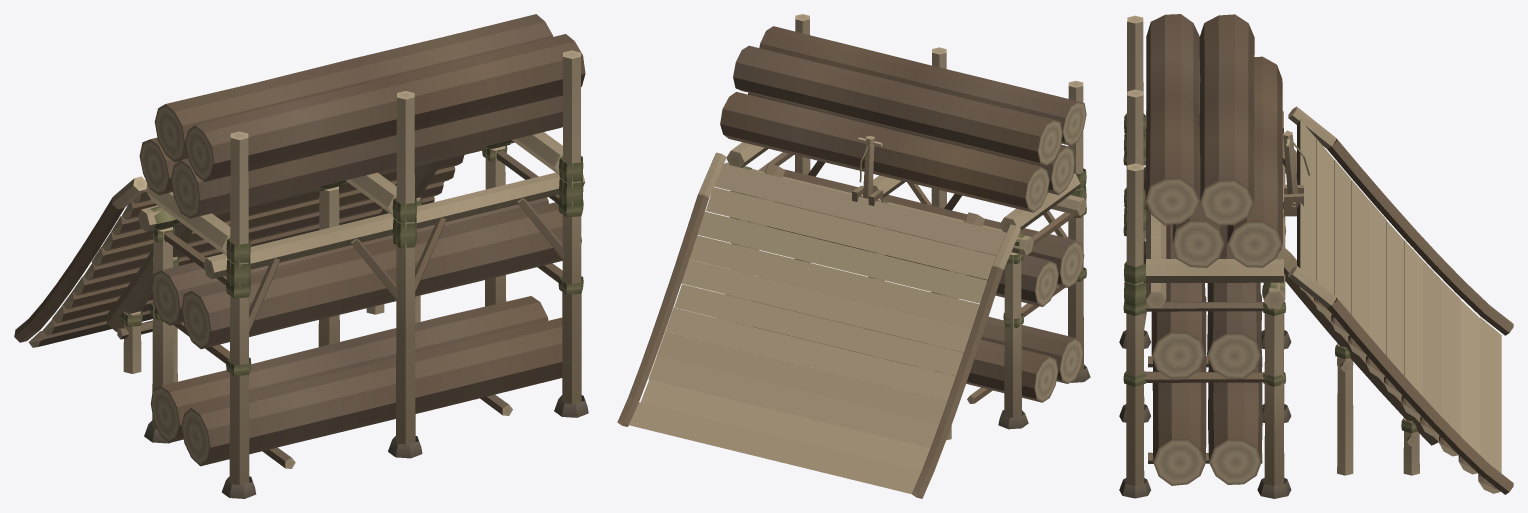
File: log_tower_a.glb
The picture shows the model from 3 angles, left to right: view 1: azimuth 30°, elevation 25°; view 2: azimuth 150°, elevation 25°; view 3: azimuth 270°, elevation 25°; orthographic projection. The views are drawn at different scales.
Parts seen in each view (by area): view 1: Base, Store2, Store3, Log3, Log1, Log2, Log0; view 2: Base, Log0, Log2, Log3, Store2, Store3, Log1, Lever; view 3: Base, Store2, Log2, Log3, Store3, Log0, Log1, Lever.
Boxes of the visible parts, bbox=[...] form: Base: bbox=[14, 50, 588, 498]; Store2: bbox=[150, 296, 562, 468]; Store3: bbox=[149, 197, 583, 376]; Log3: bbox=[185, 34, 585, 181]; Log1: bbox=[171, 95, 562, 218]; Log2: bbox=[154, 14, 553, 162]; Log0: bbox=[139, 137, 178, 195]; Base: bbox=[617, 14, 1090, 498]; Log0: bbox=[720, 92, 1049, 212]; Log2: bbox=[733, 45, 1062, 165]; Log3: bbox=[759, 26, 1086, 145]; Store2: bbox=[752, 282, 1083, 403]; Store3: bbox=[730, 169, 1086, 327]; Log1: bbox=[748, 92, 1074, 194]; Lever: bbox=[858, 136, 882, 198]; Base: bbox=[1119, 15, 1513, 498]; Store2: bbox=[1148, 293, 1262, 485]; Log2: bbox=[1199, 14, 1254, 225]; Log3: bbox=[1145, 14, 1200, 225]; Store3: bbox=[1123, 224, 1286, 386]; Log0: bbox=[1227, 56, 1283, 267]; Log1: bbox=[1172, 58, 1224, 267]; Lever: bbox=[1283, 130, 1310, 194].
Size of the model in its own units: 2.91 by 2.66 by 2.93.
